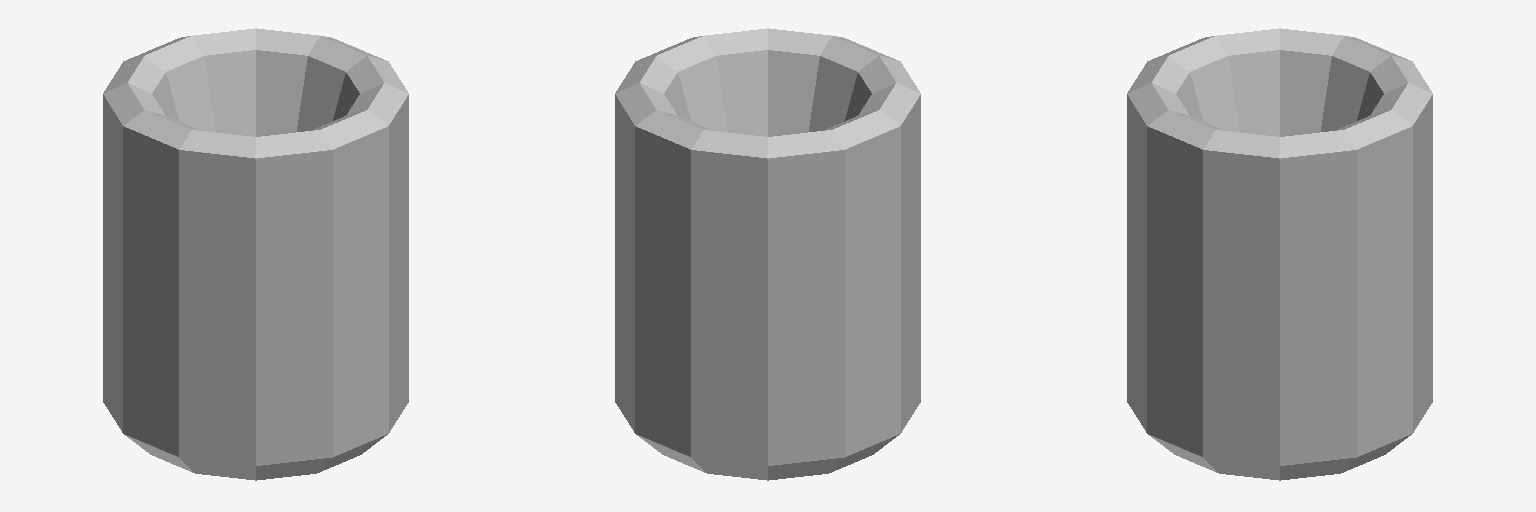
Rendered from cup.obj.
3 renders of one model, left to right at view 1: azimuth 30°, elevation 25°; view 2: azimuth 150°, elevation 25°; view 3: azimuth 270°, elevation 25°, orthographic.
Parts seen in each view (by area): view 1: cup_Cylinder.609; view 2: cup_Cylinder.609; view 3: cup_Cylinder.609.
Boxes of the visible parts, <box> form: cup_Cylinder.609: <box>103,28,408,480</box>; cup_Cylinder.609: <box>615,28,920,480</box>; cup_Cylinder.609: <box>1127,28,1432,480</box>.
Bounding box in the file's own units: 0.3675 × 0.4587 × 0.3675.